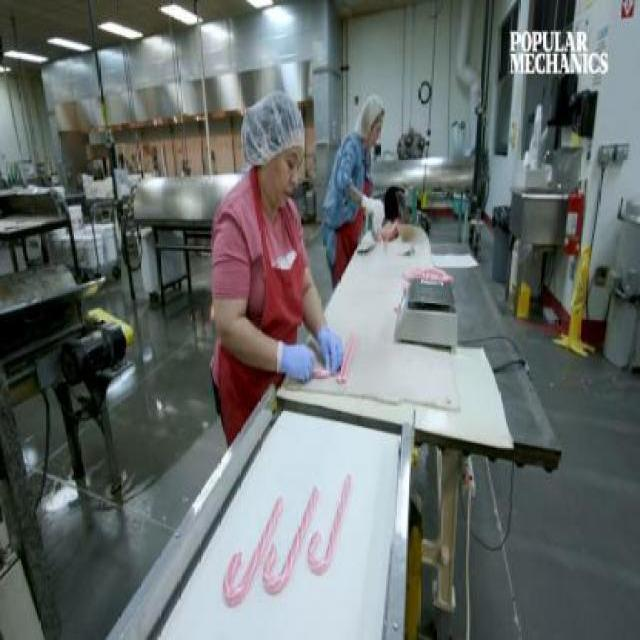gloved_hand: (311, 308, 348, 382), (274, 335, 322, 384), (363, 179, 389, 232)
